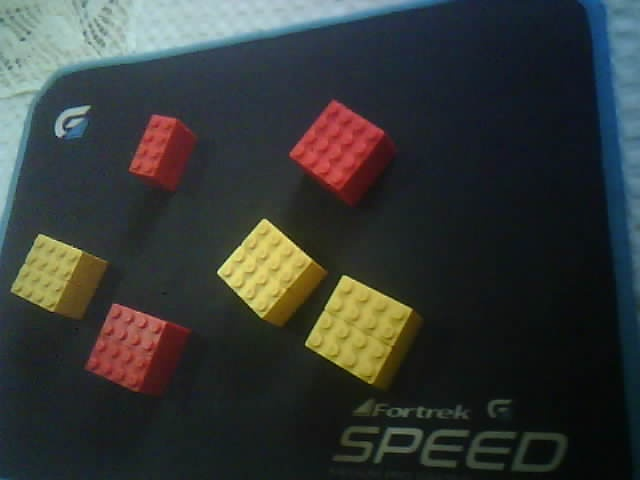lego: (303, 273, 425, 393), (215, 216, 329, 329), (289, 98, 397, 208), (83, 303, 191, 398), (9, 232, 109, 322), (127, 114, 197, 194)
